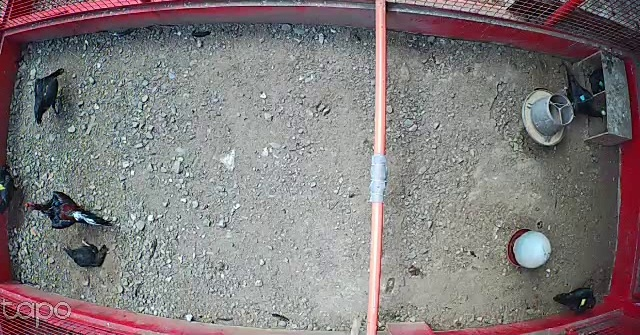Chicken: (550, 61, 608, 122), (32, 67, 70, 127), (57, 238, 114, 274), (555, 284, 597, 313)
Rooster: (24, 185, 113, 234)
Saddle_Color_Blue: (580, 95, 585, 101)
Saddle_Color_Yellow: (580, 298, 586, 307)
